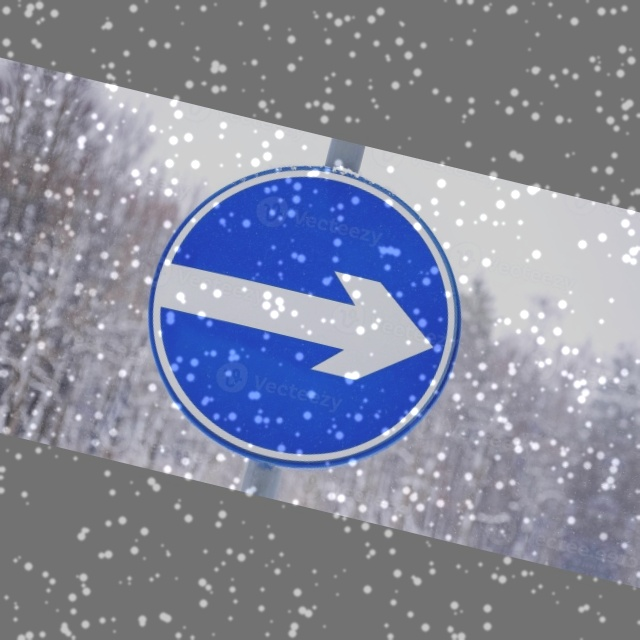Compulsory_Turn_Right: (119, 132, 493, 497)
